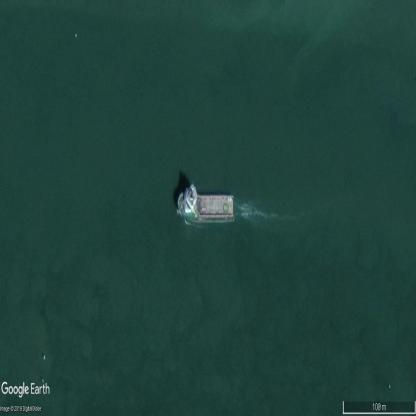ship: (176, 184, 234, 223)
